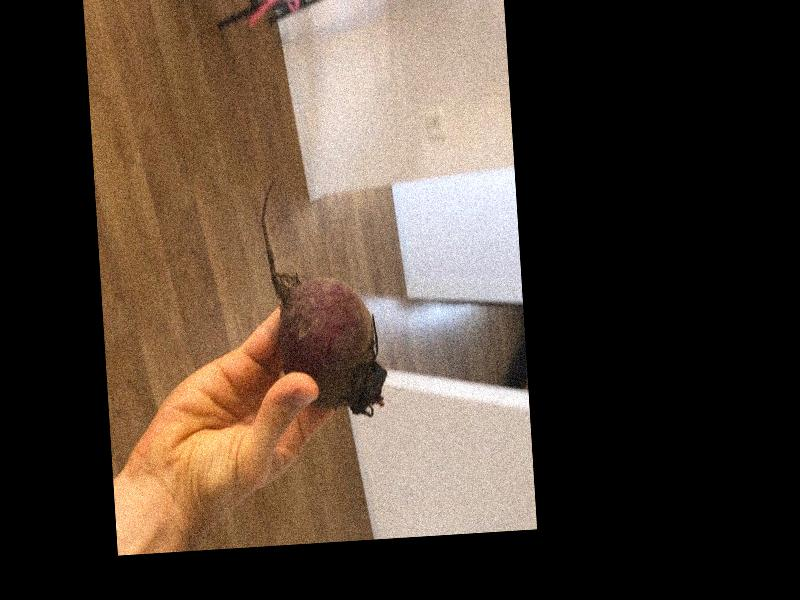Beet: (259, 169, 388, 420)
